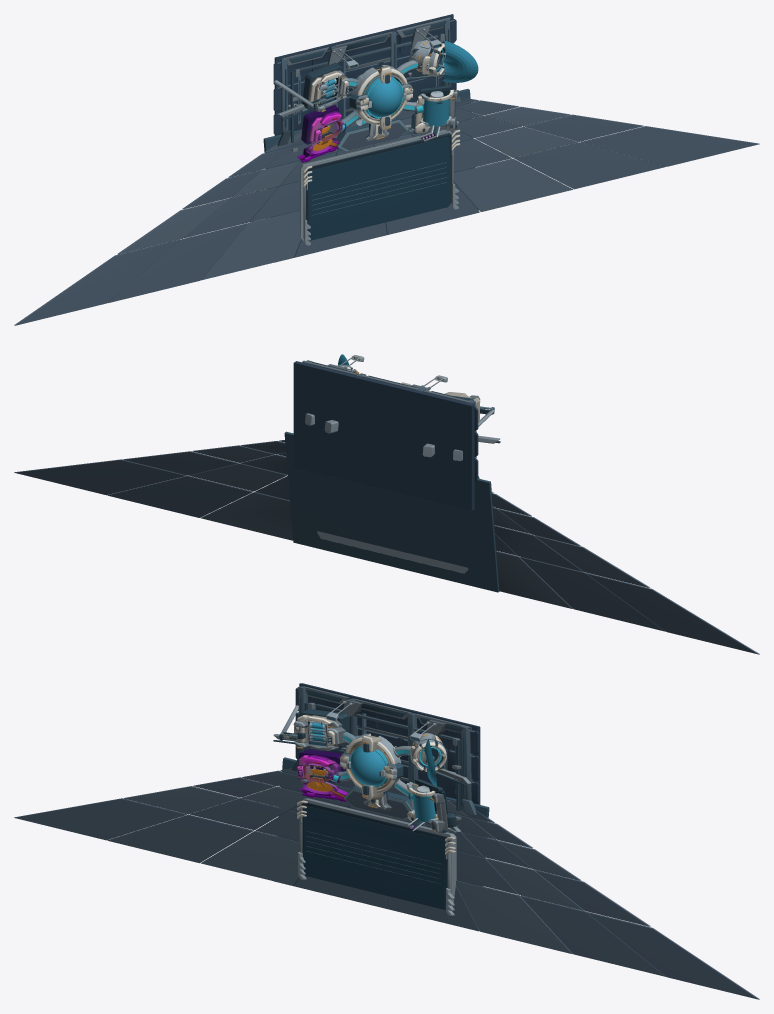
File: faceted-reactor.glb
The picture shows the model from 3 angles, top to bottom: view 1: azimuth 30°, elevation 25°; view 2: azimuth 150°, elevation 25°; view 3: azimuth 330°, elevation 25°; orthographic projection.
Parts seen in each view (by area): view 1: bay structure, console_4 structure, console_2 structure, console_3 structure, console_1 structure, weapons structure, core structure, core_mount structure, smelting structure, condensation structure, defence structure, core containment glass (+2 smaller); view 2: bay structure, console_4 structure, weapons structure; view 3: bay structure, console_4 structure, console_3 structure, console_2 structure, console_1 structure, weapons structure, core structure, smelting structure, core_mount structure, condensation structure, defence structure, core containment glass.
Boxes of the visible parts, <box> form: bay structure: <box>14,14,759,325</box>; console_4 structure: <box>299,129,460,245</box>; console_2 structure: <box>299,139,460,235</box>; console_3 structure: <box>299,134,460,240</box>; console_1 structure: <box>299,143,460,229</box>; weapons structure: <box>274,62,349,120</box>; core structure: <box>349,65,413,130</box>; core_mount structure: <box>336,55,408,151</box>; smelting structure: <box>297,105,346,162</box>; condensation structure: <box>405,85,458,141</box>; defence structure: <box>408,40,445,80</box>; core containment glass: <box>363,75,402,117</box>; bay structure: <box>14,355,759,654</box>; console_4 structure: <box>317,531,468,573</box>; weapons structure: <box>422,392,500,461</box>; bay structure: <box>14,683,759,999</box>; console_4 structure: <box>297,798,456,915</box>; console_3 structure: <box>297,805,456,910</box>; console_2 structure: <box>297,810,456,905</box>; console_1 structure: <box>297,814,456,899</box>; weapons structure: <box>273,705,349,750</box>; core structure: <box>340,733,403,799</box>; smelting structure: <box>297,749,347,801</box>; core_mount structure: <box>344,713,412,820</box>; condensation structure: <box>406,779,461,833</box>; defence structure: <box>410,733,471,785</box>; core containment glass: <box>350,745,388,785</box>.
Bounding box in the file's own units: 5629 × 1389 × 529.
